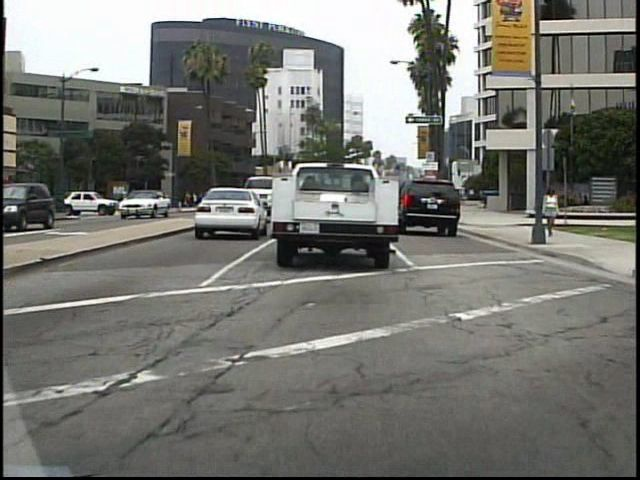person: (542, 182, 562, 244), (123, 183, 138, 216), (122, 190, 124, 215)
